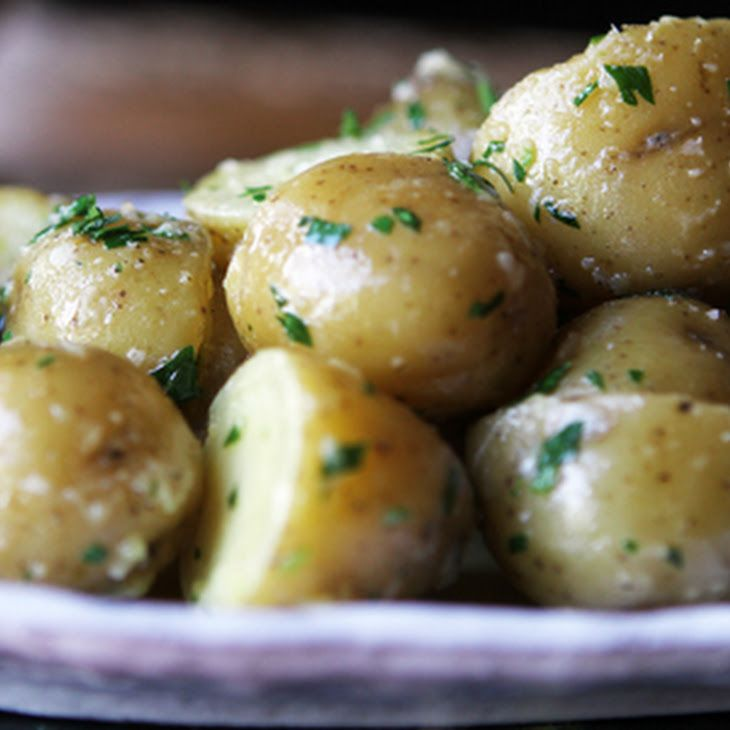boiled potatoes: (2, 38, 730, 613)
